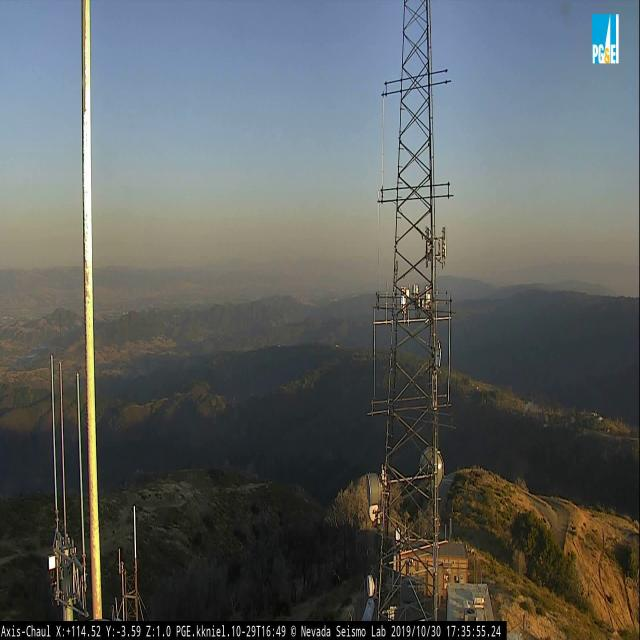smoke: (522, 400, 534, 414)
